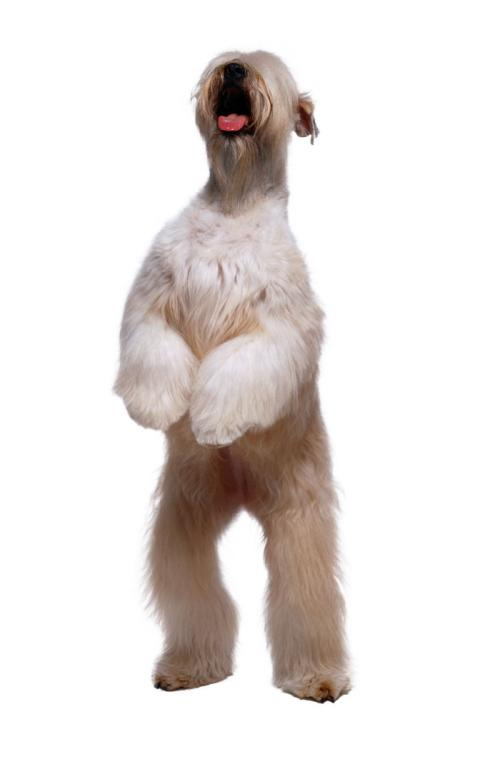dog: (146, 31, 354, 203)
